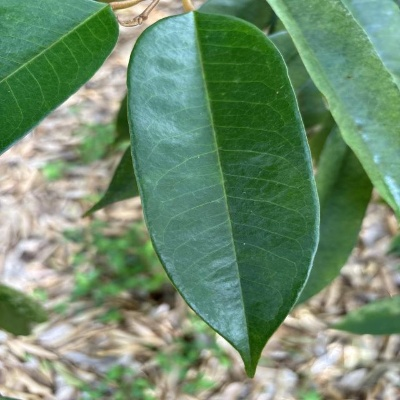Leaf_Healthy: (124, 8, 323, 377)
